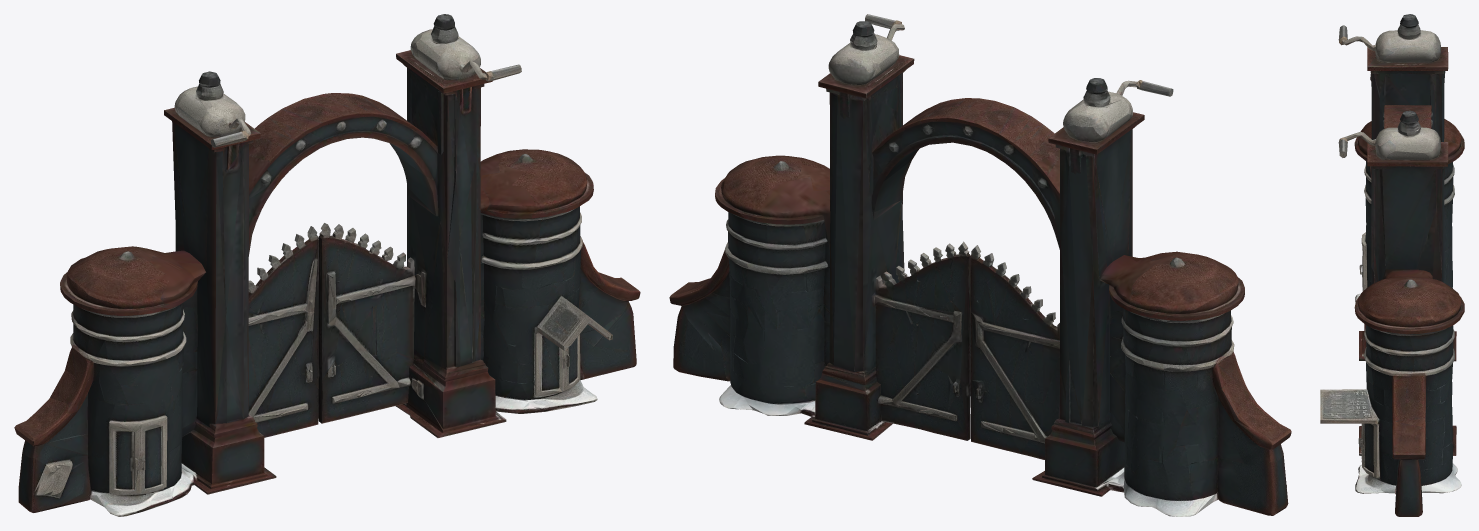
The model's file is gate.glb.
3 renders of one model, left to right at view 1: azimuth 30°, elevation 25°; view 2: azimuth 150°, elevation 25°; view 3: azimuth 270°, elevation 25°, orthographic. The views are drawn at different scales.
Bounding box in the file's own units: 1.9 × 1.17 × 0.4637.
Materials: 1 (1 with a texture image).
